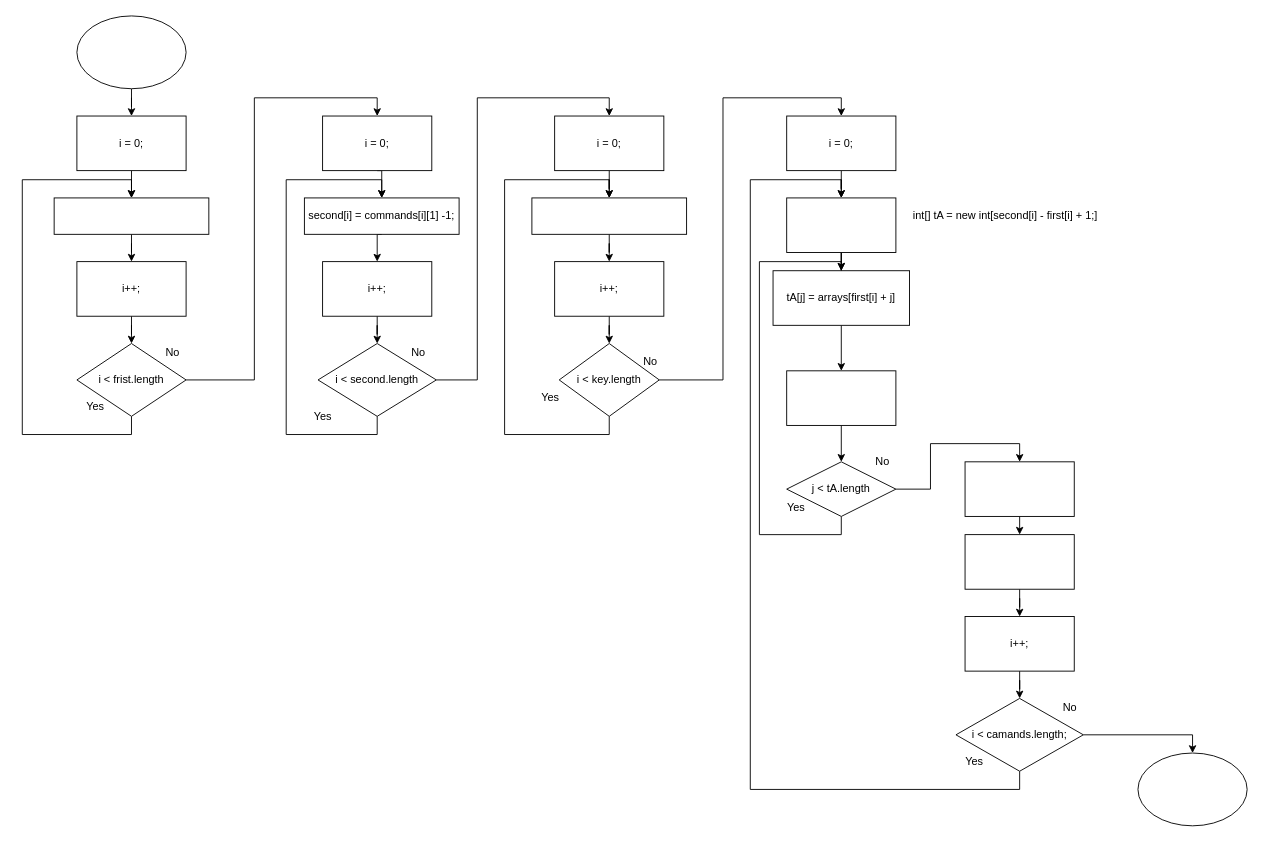
Some shapes in this 1263 by 842 pixel diagram are drawn without their labels. Each missing label, with the centre of its shape:
"answer[i] = tA[k];" goes at point 1019,561.
"first[i] = commands[i][0] - 1;" goes at point 131,215.
"j = 0;" goes at point 841,225.
"j++;" goes at point 841,397.
"key[i] = commands[i][2] - 1;" goes at point 609,215.
"return answer;" goes at point 1192,789.
"start" goes at point 131,52.
"tA.sort();" goes at point 1019,488.
